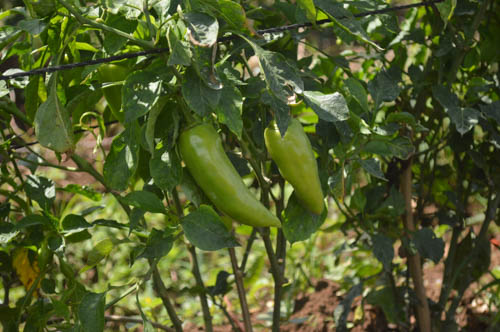ChiliPepper: (180, 124, 284, 231), (260, 117, 333, 216)
